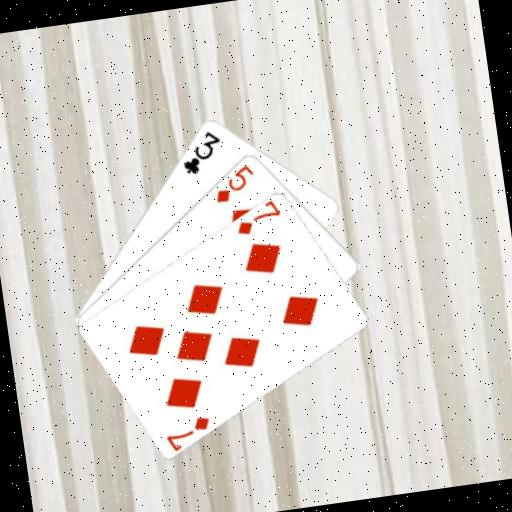3C: (176, 125, 227, 177)
5D: (209, 161, 260, 206)
7D: (230, 198, 285, 238), (161, 412, 215, 452)
